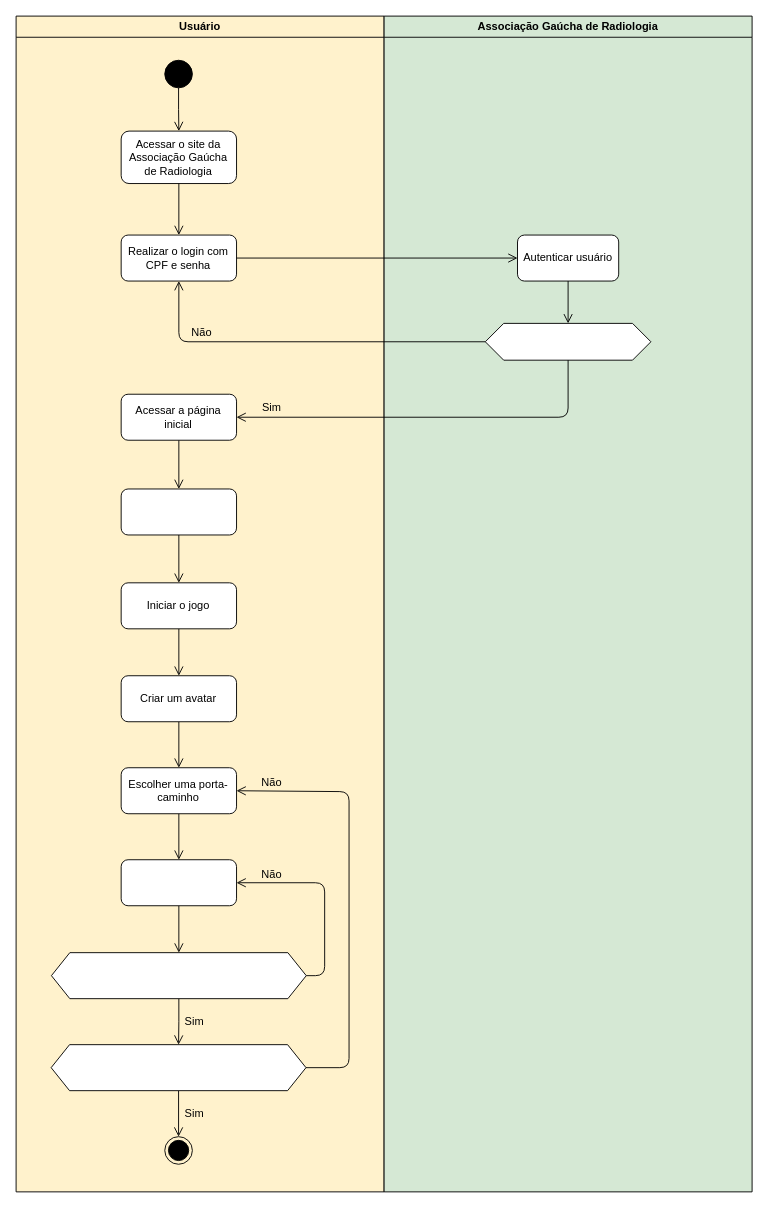
This 768x1208 diagram has some shape labels left out. The box of each missing label's shape, as (x1, y1, x2, y2) in pixels:
A autenticação foi bem sucedida?: (484, 322, 651, 360)
Acessar o ambiente do jogo: (120, 488, 237, 535)
O enigma foi resolvido e não existem mais enigmas a serem resolvidos?: (51, 952, 306, 999)
O jogador já concluiu todas as portas-caminhos?: (50, 1044, 306, 1091)
Resolver o enigma: (120, 859, 237, 906)
